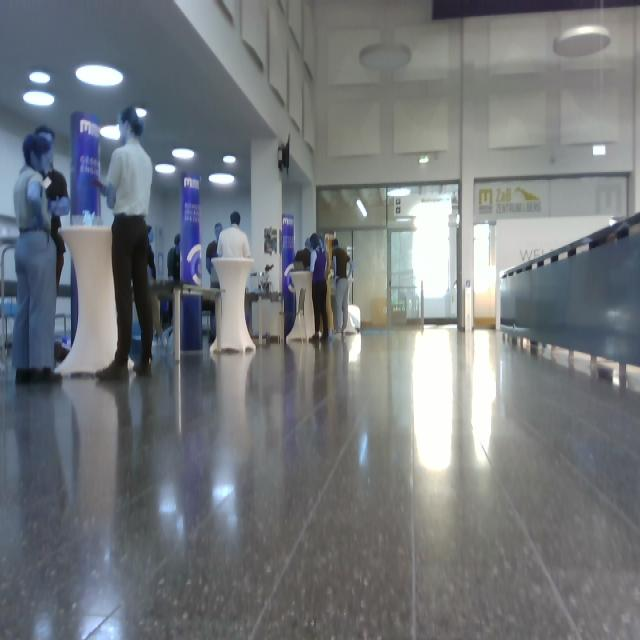door: (353, 228, 389, 329), (389, 229, 418, 328)
light bulb: (553, 24, 611, 57), (359, 42, 412, 72), (76, 64, 124, 88), (23, 90, 55, 108), (100, 125, 121, 141), (29, 70, 51, 85), (209, 173, 235, 185), (172, 148, 195, 160), (356, 199, 368, 219), (82, 211, 96, 227), (387, 188, 411, 197), (155, 164, 176, 174), (135, 107, 147, 119), (223, 154, 236, 164)
person: (92, 106, 155, 381), (12, 133, 64, 386), (34, 125, 71, 364), (215, 212, 253, 337), (309, 233, 330, 341), (330, 239, 352, 335)
pillar: (180, 173, 203, 352)
staircase: (499, 212, 640, 389)
tiled floor: (1, 323, 639, 639)
